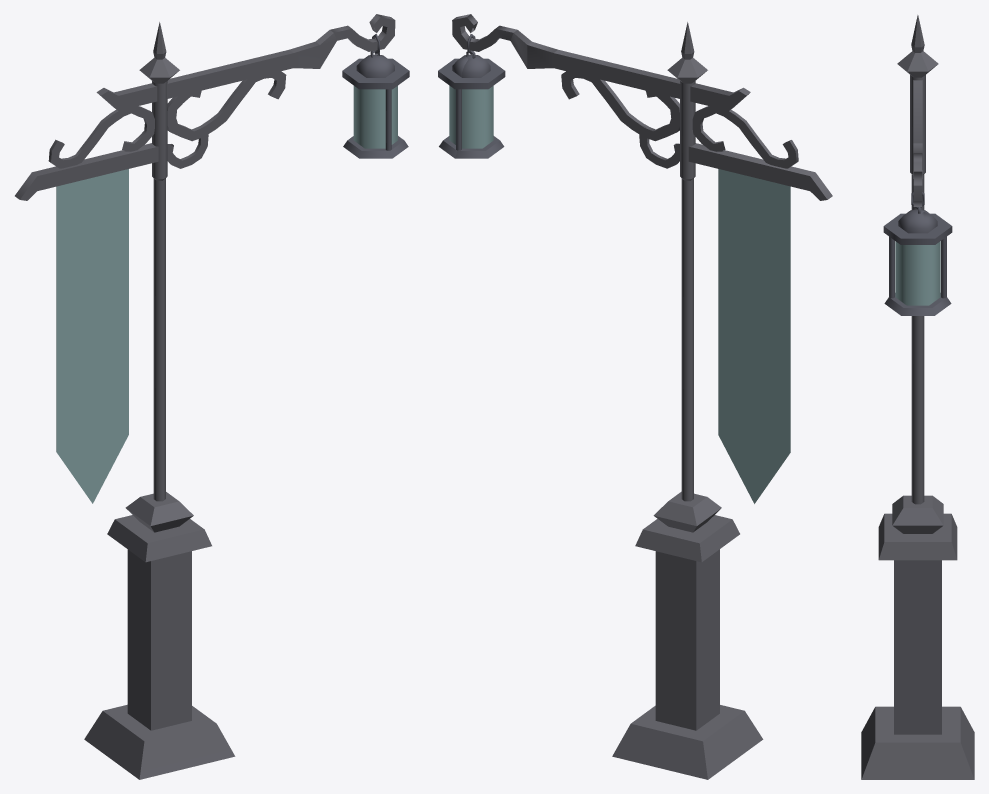
Rendered from streetlight.glb.
3 views of the same model, side by side, from view 1: azimuth 30°, elevation 25°; view 2: azimuth 150°, elevation 25°; view 3: azimuth 270°, elevation 25° (orthographic). The views are drawn at different scales.
Visible parts, largest first — view 1: Plane.002_640.001; view 2: Plane.002_640.001; view 3: Plane.002_640.001.
Part boxes in pixels (x1,y1,x2,y2): Plane.002_640.001: [15, 14, 409, 779]; Plane.002_640.001: [438, 14, 832, 779]; Plane.002_640.001: [861, 15, 974, 779].
Size of the model in its own units: 15.38 by 27.81 by 3.84.
